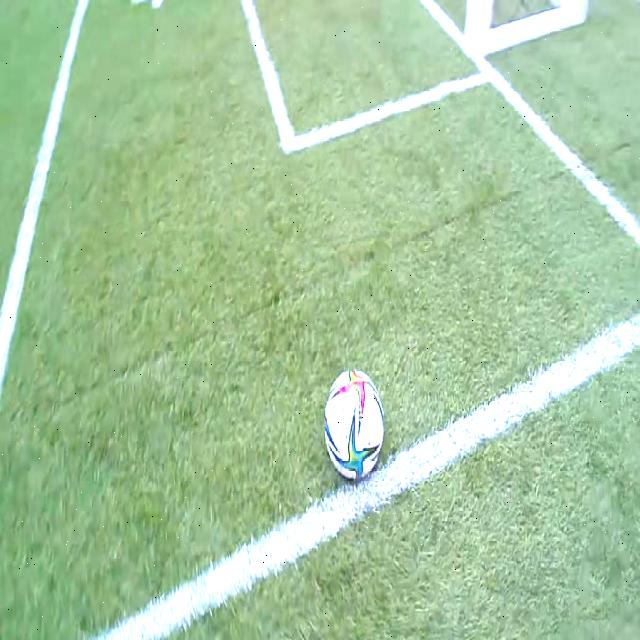ball: (326, 368, 384, 478)
